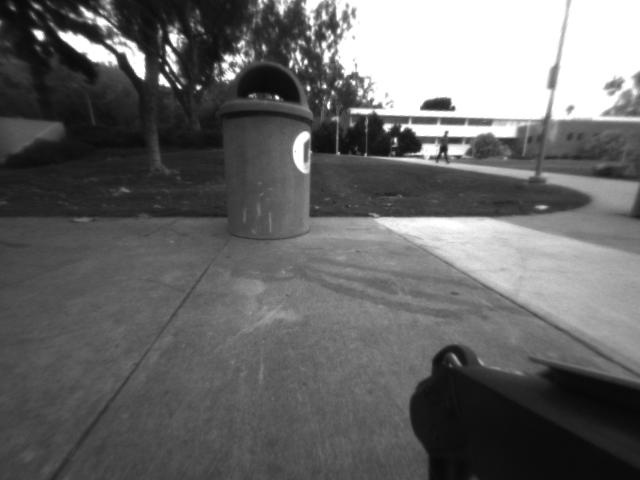trashcan: (212, 56, 320, 246)
